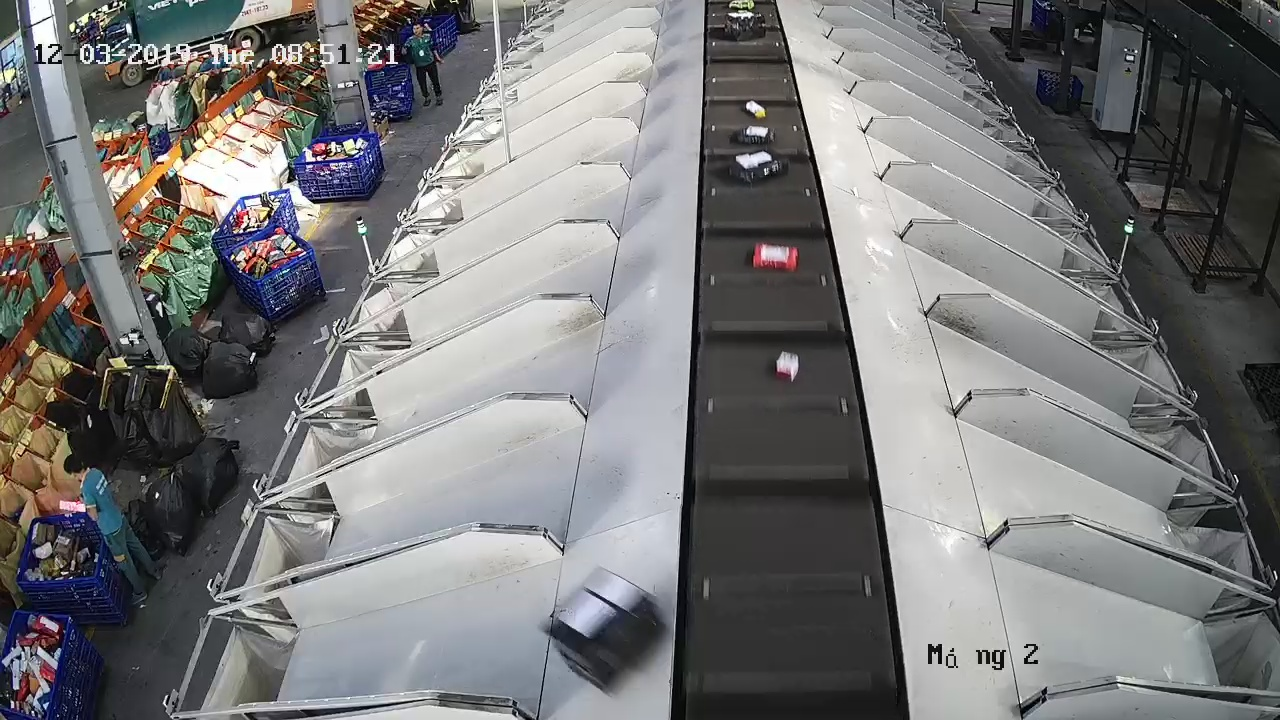parcel: (537, 565, 661, 692)
